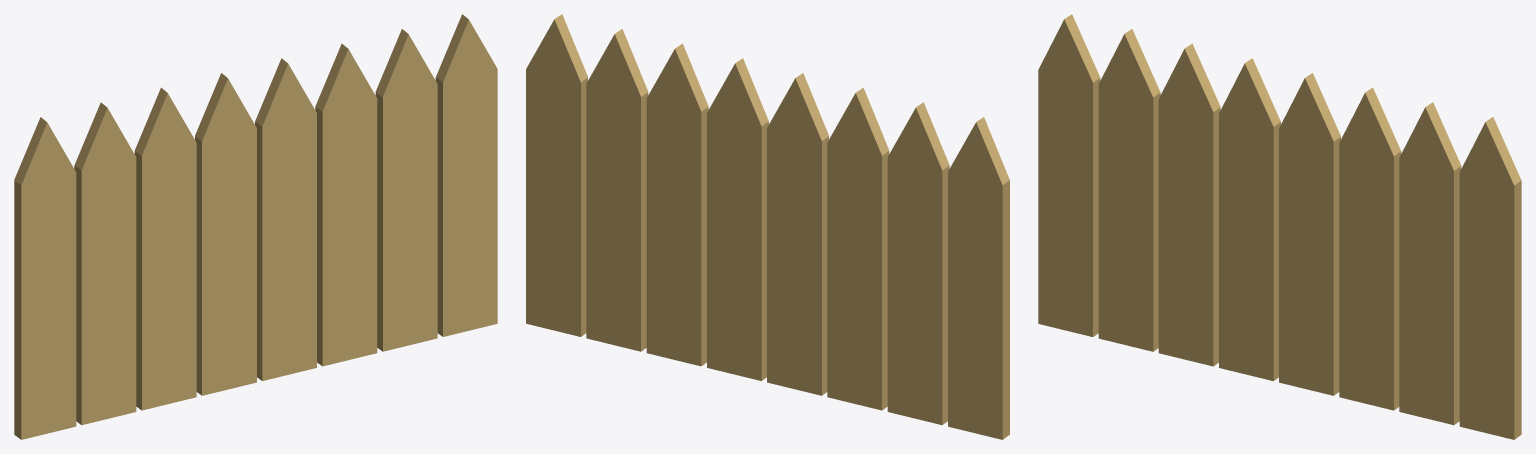
Rendered from FenceBarrier.fbx.
3 renders of one model, left to right at view 1: azimuth 30°, elevation 25°; view 2: azimuth 150°, elevation 25°; view 3: azimuth 330°, elevation 25°, orthographic.
Parts seen in each view (by area): view 1: Cube; view 2: Cube; view 3: Cube.
Boxes of the visible parts, bbox=[...] form: Cube: bbox=[14, 14, 497, 439]; Cube: bbox=[526, 14, 1009, 439]; Cube: bbox=[1038, 14, 1521, 439].
Bounding box in the file's own units: 1740 × 1087 × 46.02.
